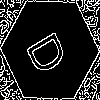D: (25, 25, 76, 78)
